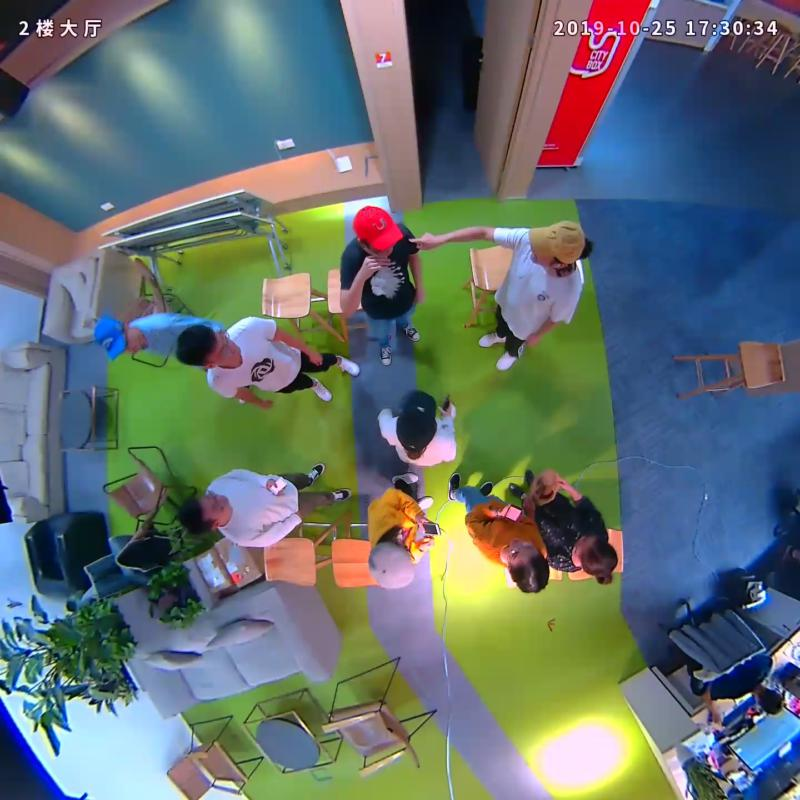head: (352, 204, 404, 262), (174, 323, 239, 368), (527, 219, 585, 269), (505, 536, 551, 594), (395, 390, 438, 450), (367, 539, 418, 589), (93, 314, 142, 362), (177, 492, 231, 535), (574, 532, 618, 578)
